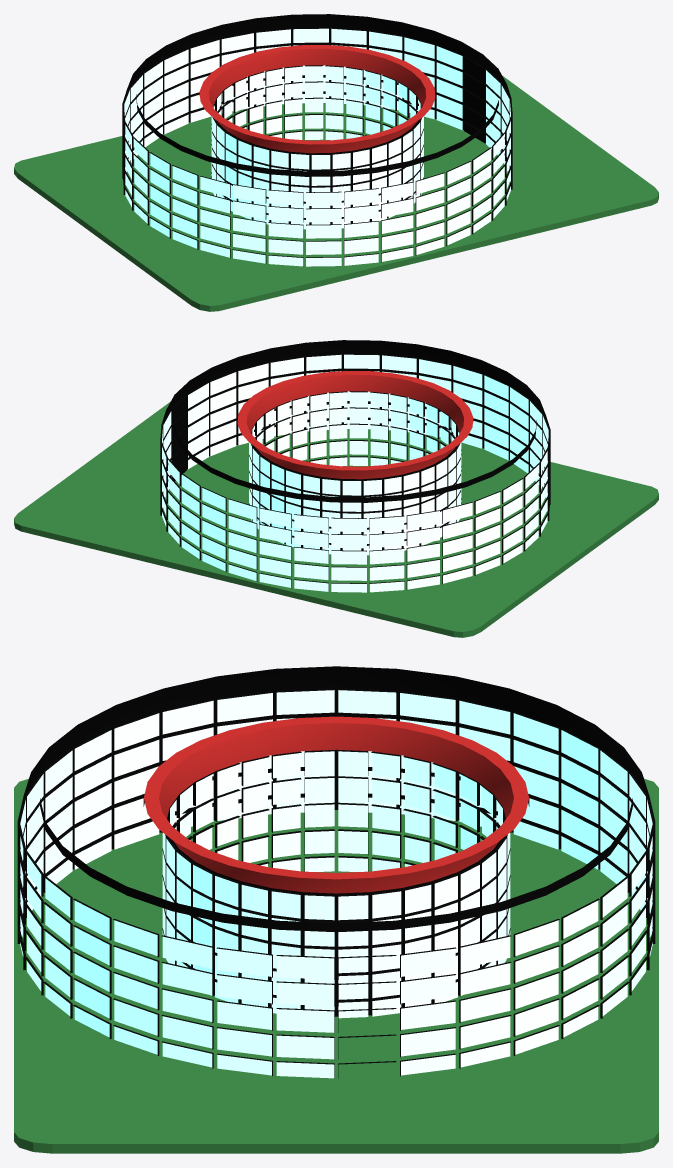
Rendered from multi_stories.fbx.
The picture shows the model from 3 angles, top to bottom: view 1: azimuth 30°, elevation 25°; view 2: azimuth 150°, elevation 25°; view 3: azimuth 270°, elevation 25°; orthographic projection. The views are drawn at different scales.
Visible parts, largest first — view 1: Circle, Plane.012; view 2: Circle, Plane.012; view 3: Circle, Plane.012.
Boxes of the visible parts, <box> form: Circle: <box>122,14,512,266</box>; Plane.012: <box>14,76,658,311</box>; Circle: <box>160,340,550,592</box>; Plane.012: <box>14,402,658,637</box>; Circle: <box>17,666,655,1078</box>; Plane.012: <box>14,778,658,1153</box>.
Bounding box in the file's own units: 42.59 × 8.43 × 31.51.
